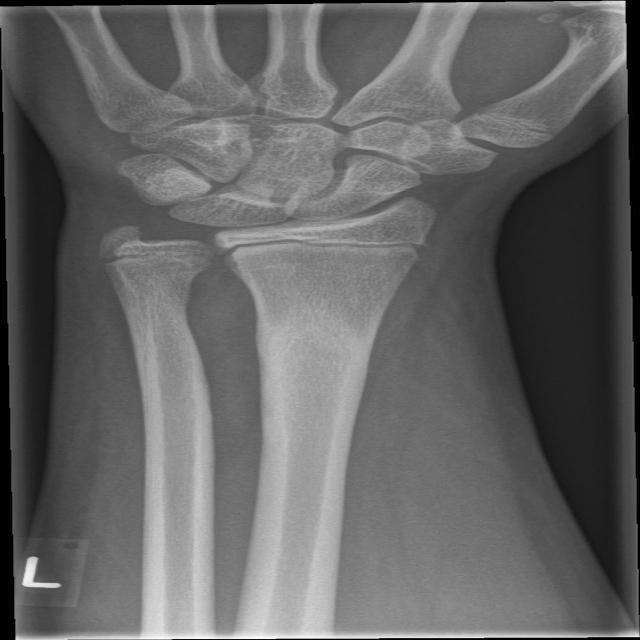fracture: (208, 230, 447, 269), (91, 238, 238, 272)
